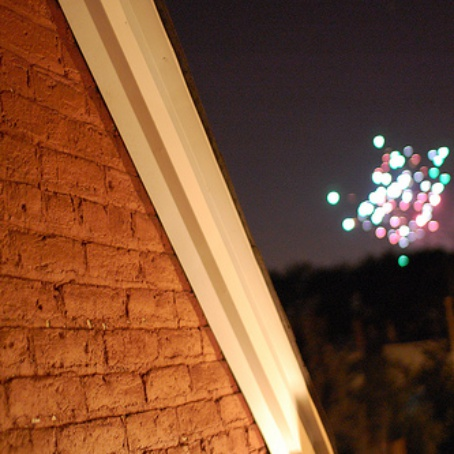building: (1, 1, 337, 449)
fireworks: (314, 121, 454, 281)
